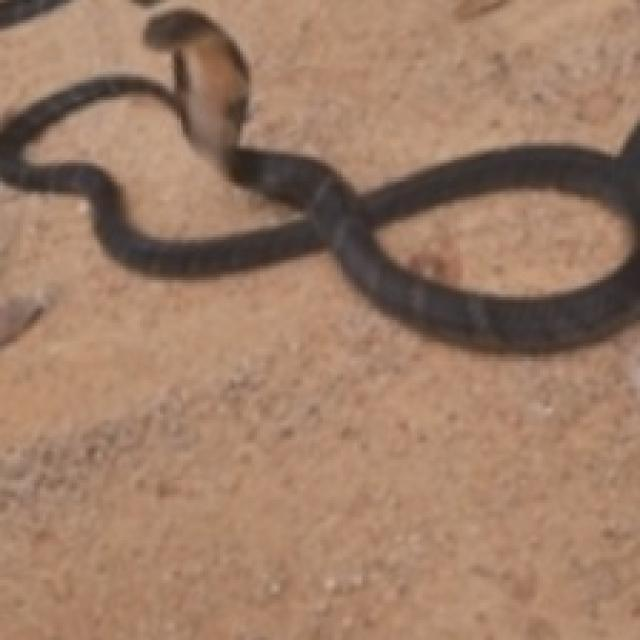king cobra: (0, 9, 637, 349)
